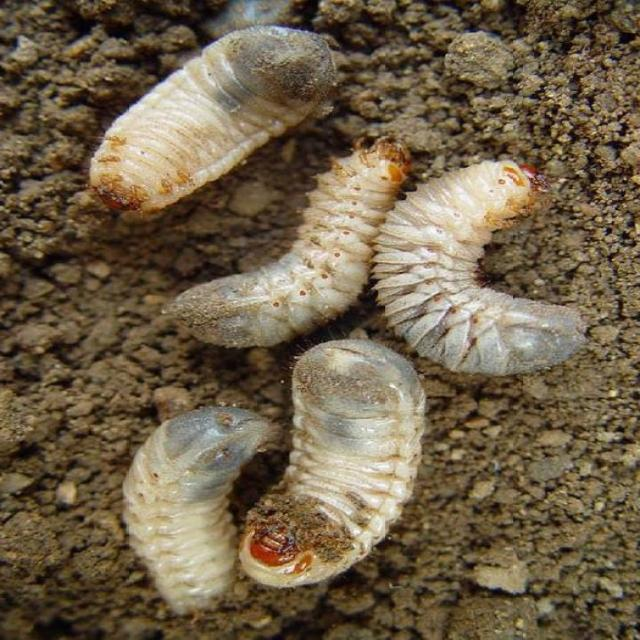grub: (168, 132, 408, 359), (242, 338, 435, 604), (374, 162, 589, 392), (93, 22, 337, 223), (121, 393, 278, 623)
